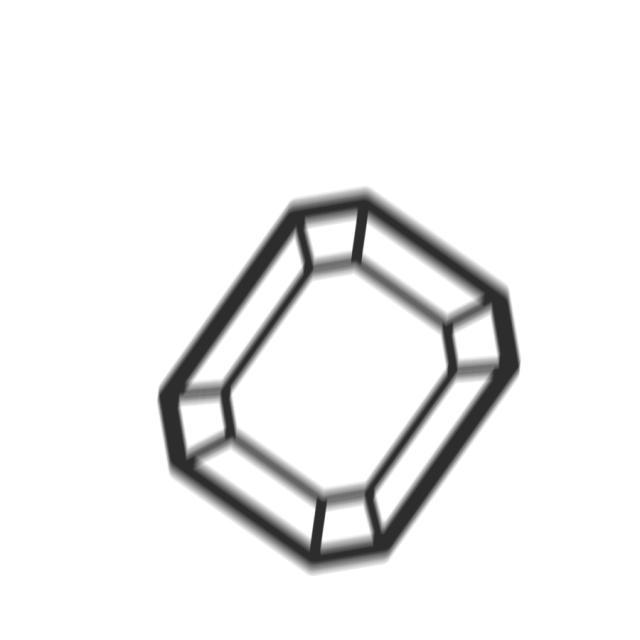emerald: (148, 181, 530, 588)
